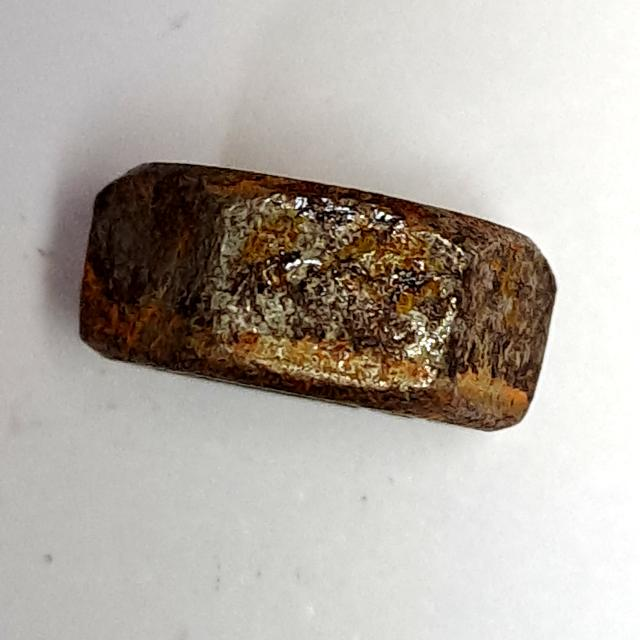Side_Rust: (59, 147, 569, 449)
